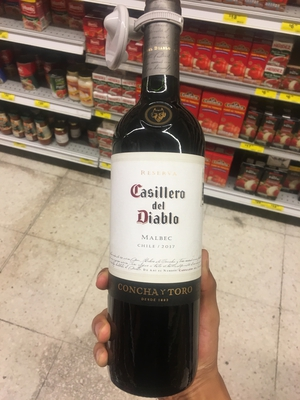casillero del diablo malbec: (101, 13, 212, 400)
